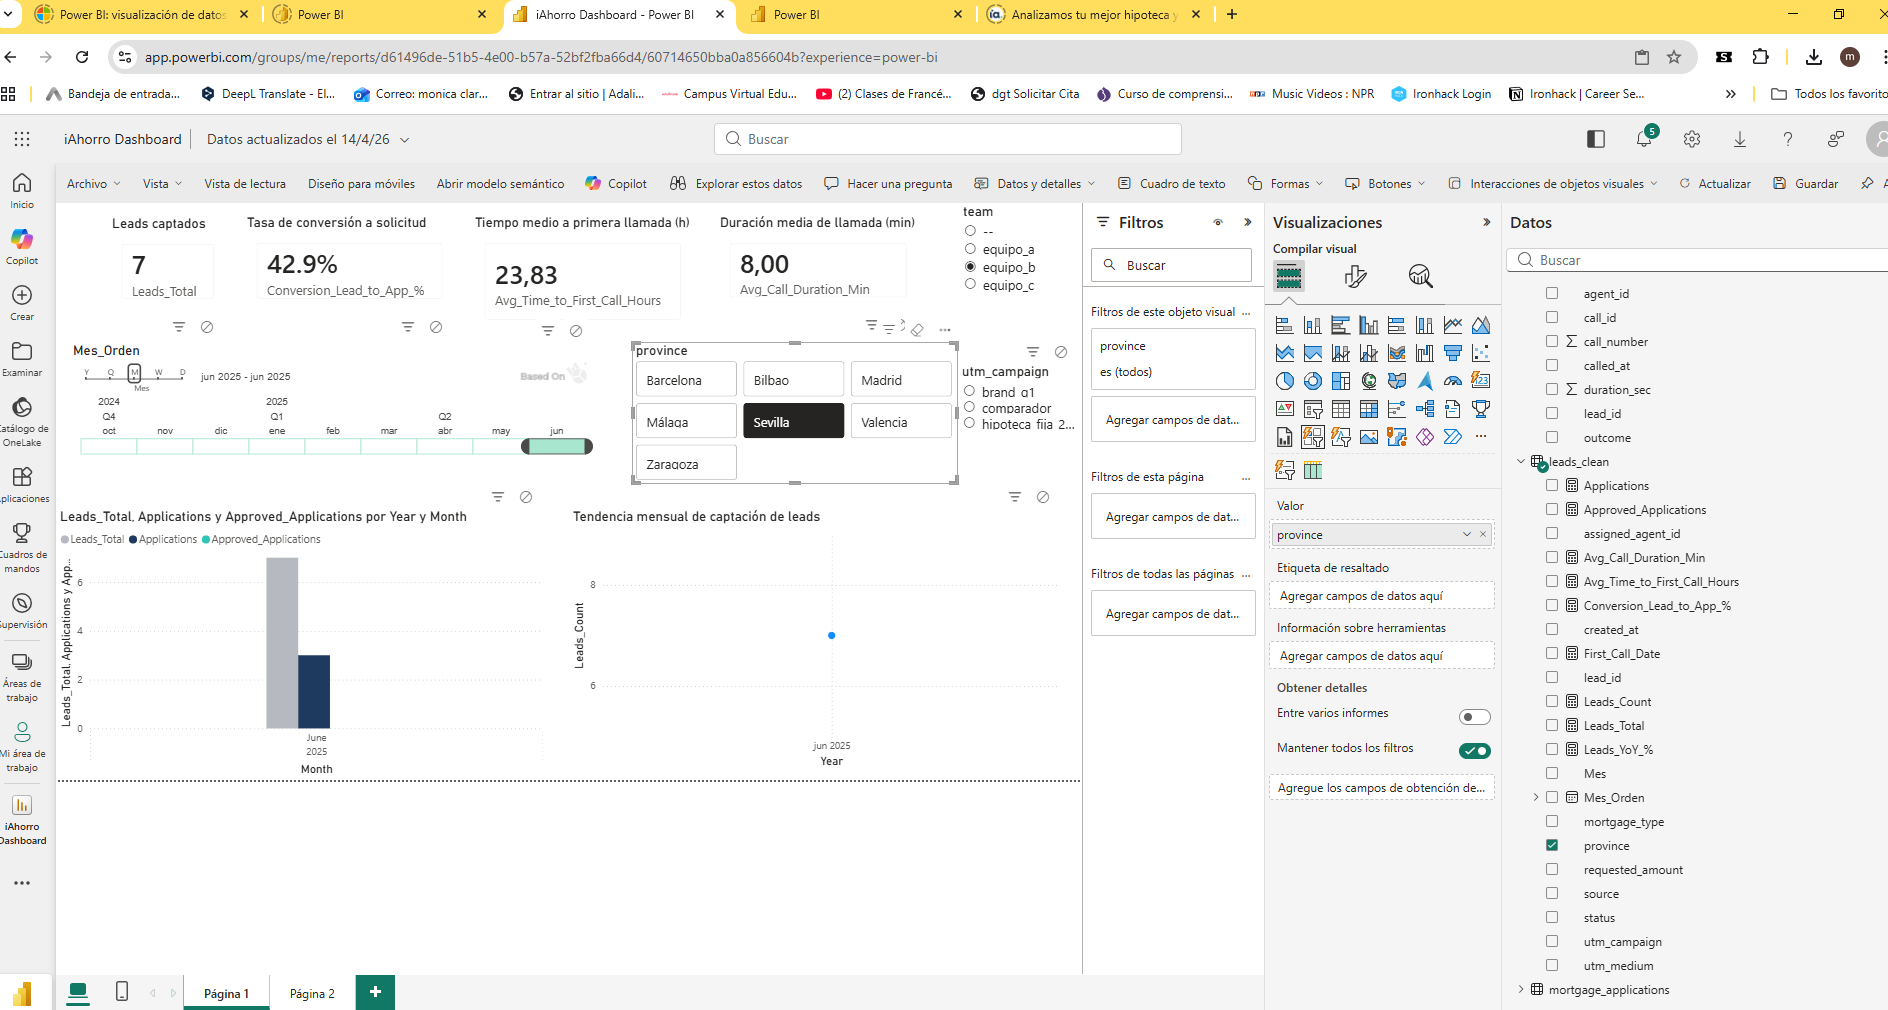

The page's visual inventory and layout, read from the dashboard file:
{"tool":"powerbi","page":{"name":"Página 1","canvas":[1280,720],"ordinal":0},"visuals":[{"type":"cardVisual","title":"Leads captados","fields":{"Data":["leads_clean.Leads_Total","leads_clean.Leads_Total"]},"box":[64.9,15,149.7,122.3],"z":0},{"type":"cardVisual","title":"Tasa de conversión a solicitud","fields":{"Data":["leads_clean.Conversion_Lead_to_App_%"]},"box":[233.3,13.7,267,123.5],"z":1000},{"type":"cardVisual","title":"Tiempo medio a primera llamada (h)","fields":{"Data":["leads_clean.Avg_Time_to_First_Call_Hours"]},"box":[517.7,13.7,279.5,149.7],"z":2000},{"type":"clusteredColumnChart","fields":{"Y":["leads_clean.Leads_Total","leads_clean.Applications","leads_clean.Approved_Applications"],"Category":["leads_clean.Mes_Orden.Variación.Date Hierarchy.Year","leads_clean.Mes_Orden.Variación.Date Hierarchy.Month"]},"box":[0,380.5,612.6,339.3],"z":3000},{"type":"listSlicer","fields":{"Values":["agents 2.team"]},"box":[1126.5,0,153.5,210.8],"z":4000},{"type":"listSlicer","fields":{"Values":["leads_clean.utm_campaign"]},"box":[1125.3,199.6,154.7,193.4],"z":6000},{"type":"BasedOnTimelineSlicer","fields":{"Time":["leads_clean.Mes_Orden"]},"box":[16.2,173.4,658.7,146],"z":7000},{"type":"cardVisual","title":"Duración media de llamada (min)","fields":{"Data":["leads_clean.Avg_Call_Duration_Min"]},"box":[823.4,13.7,255.8,121],"z":8000},{"type":"lineChart","title":"Tendencia mensual de captación de leads","fields":{"Y":["leads_clean.Leads_Count"],"Category":["leads_clean.Mes_Orden.Variación.Date Hierarchy.Year","leads_clean.Mes_Orden.Variación.Date Hierarchy.Month","leads_clean.Mes_Orden.Variación.Date Hierarchy.Day"]},"box":[640,380.5,617.5,328.1],"z":8001},{"type":"advancedSlicerVisual","fields":{"Values":["leads_clean.province"]},"box":[718.6,173.4,406.7,177.2],"z":8002}]}

Visuals, with their boxes on the page's 1280x720 design canvas (x1, y1, x2, y2). These are canvas units, not pixel positions in the 1888x1010 screenshot, which may show the page scaled, cropped or inside an application window:
"Leads captados" cardVisual: x1=65, y1=15, x2=215, y2=137
"Tasa de conversión a solicitud" cardVisual: x1=233, y1=14, x2=500, y2=137
"Tiempo medio a primera llamada (h)" cardVisual: x1=518, y1=14, x2=797, y2=163
clusteredColumnChart - leads_clean.Leads_Total x leads_clean.Applications: x1=0, y1=380, x2=613, y2=720
listSlicer - agents 2.team: x1=1126, y1=0, x2=1280, y2=211
listSlicer - leads_clean.utm_campaign: x1=1125, y1=200, x2=1280, y2=393
BasedOnTimelineSlicer - leads_clean.Mes_Orden: x1=16, y1=173, x2=675, y2=319
"Duración media de llamada (min)" cardVisual: x1=823, y1=14, x2=1079, y2=135
"Tendencia mensual de captación de leads" lineChart: x1=640, y1=380, x2=1258, y2=709
advancedSlicerVisual - leads_clean.province: x1=719, y1=173, x2=1125, y2=351
